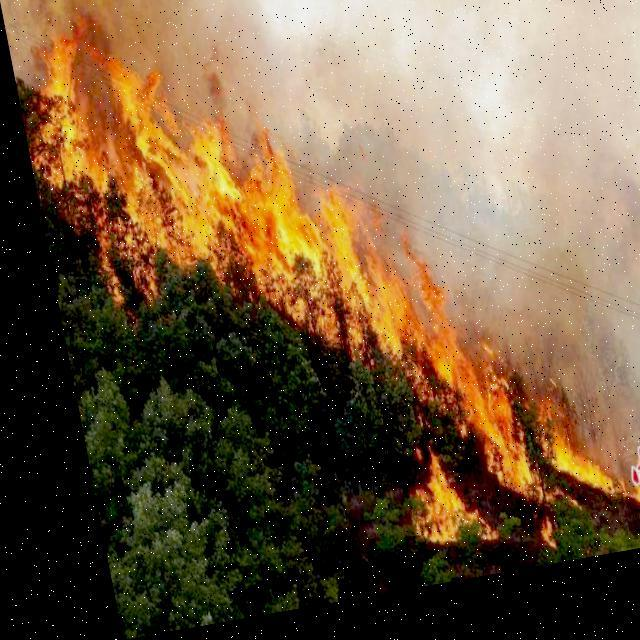Fire: (11, 0, 639, 619)
